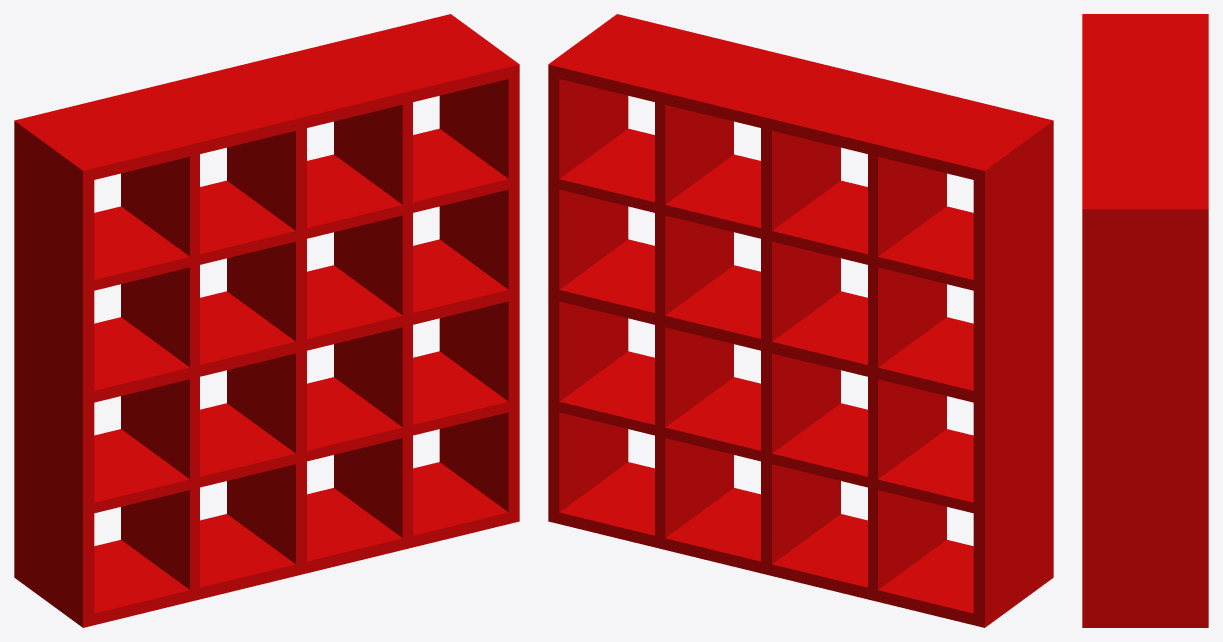
The model's file is MeubleRangementSalon3.fbx.
The picture shows the model from 3 angles, left to right: view 1: azimuth 30°, elevation 25°; view 2: azimuth 150°, elevation 25°; view 3: azimuth 270°, elevation 25°; orthographic projection. The views are drawn at different scales.
Parts seen in each view (by area): view 1: Cube.002; view 2: Cube.002; view 3: Cube.002.
Boxes of the visible parts, box(x1,y1,x2,y2) form: Cube.002: box(14, 14, 519, 627); Cube.002: box(548, 14, 1053, 627); Cube.002: box(1082, 14, 1208, 627).
Bounding box in the file's own units: 585 × 585 × 160.
